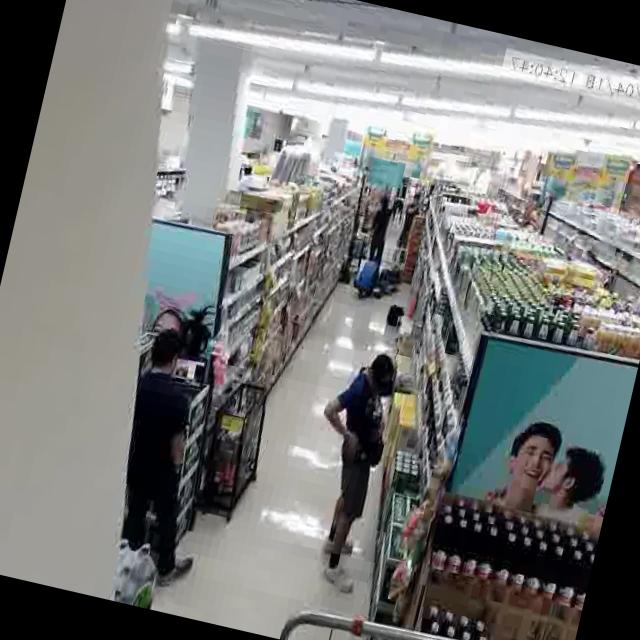shoplifting: (277, 326, 421, 604)
